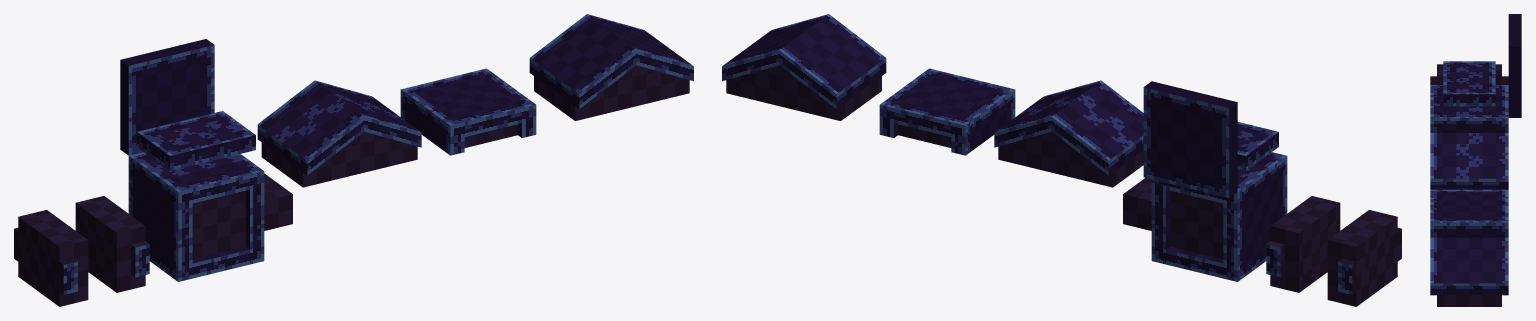
File: Gridmap_Dungeon.glb
3 views of the same model, side by side, from view 1: azimuth 30°, elevation 25°; view 2: azimuth 150°, elevation 25°; view 3: azimuth 270°, elevation 25° (orthographic). The views are drawn at different scales.
Parts seen in each view (by area): view 1: SD_slope_gentle_right-col, SD2_slope_gentle_right-col, SD_Platform-col, SD2_slope_gentle_left-col, SD_slope_gentle_left-col, SD2_top_left-col, SD_middle_bottom_left_corner-col, SD_middle_bottom_right_corner-col, SD_top_left-col, SD2_top_right-col, SD_middle_left-col, SD2_top_centre-col (+17 smaller); view 2: SD2_slope_gentle_right-col, SD_slope_gentle_right-col, SD2_slope_gentle_left-col, SD_slope_gentle_left-col, SD2_top_left-col, SD_middle_bottom_left_corner-col, SD_middle_bottom_right_corner-col, SD_top_left-col, SD2_top_right-col, SD_middle_left-col, SD2_top_centre-col, SD_middle_top_left_corner-col (+19 smaller); view 3: SD2_slope_gentle_left-col, SD_slope_gentle_left-col, SD_Platform-col, SD2_top_right-col, SD_top_right-col, SD2_top_centre-col, SD2_top_left-col, SD_wall_top_right-col, SD_middle_bottom_left_corner-col, SD_top_centre-col, SD_wall_middle_right-col, SD_wall_bottom_right-col (+3 smaller).
Boxes of the visible parts, x1,y1,x2,y2 form: SD_slope_gentle_right-col: [257, 80, 364, 187]; SD2_slope_gentle_right-col: [529, 14, 636, 120]; SD_Platform-col: [137, 111, 255, 170]; SD2_slope_gentle_left-col: [587, 14, 693, 106]; SD_slope_gentle_left-col: [315, 80, 421, 173]; SD2_top_left-col: [400, 82, 478, 155]; SD_middle_bottom_left_corner-col: [14, 210, 88, 279]; SD_middle_bottom_right_corner-col: [75, 196, 149, 262]; SD_top_left-col: [128, 152, 206, 221]; SD2_top_right-col: [458, 68, 536, 138]; SD_middle_left-col: [128, 186, 202, 251]; SD2_top_centre-col: [430, 75, 507, 145]; SD2_slope_gentle_right-col: [779, 14, 886, 120]; SD_slope_gentle_right-col: [1051, 80, 1143, 187]; SD2_slope_gentle_left-col: [722, 14, 828, 106]; SD_slope_gentle_left-col: [994, 80, 1100, 173]; SD2_top_left-col: [937, 82, 1015, 155]; SD_middle_bottom_left_corner-col: [1327, 210, 1401, 279]; SD_middle_bottom_right_corner-col: [1266, 196, 1340, 262]; SD_top_left-col: [1209, 152, 1287, 221]; SD2_top_right-col: [879, 68, 957, 138]; SD_middle_left-col: [1213, 186, 1287, 251]; SD2_top_centre-col: [908, 75, 985, 145]; SD_middle_top_left_corner-col: [1327, 244, 1401, 306]; SD2_slope_gentle_left-col: [1430, 237, 1508, 306]; SD_slope_gentle_left-col: [1430, 133, 1508, 189]; SD_Platform-col: [1443, 61, 1495, 106]; SD2_top_right-col: [1430, 211, 1508, 237]; SD_top_right-col: [1430, 107, 1508, 132]; SD2_top_centre-col: [1430, 200, 1508, 211]; SD2_top_left-col: [1430, 189, 1508, 200]; SD_wall_top_right-col: [1508, 36, 1521, 70]; SD_middle_bottom_left_corner-col: [1430, 64, 1508, 84]; SD_top_centre-col: [1430, 96, 1508, 106]; SD_wall_middle_right-col: [1508, 70, 1521, 94]; SD_wall_bottom_right-col: [1508, 94, 1521, 117].
Bounding box in the file's own units: 44 × 12 × 7.
Materials: 1 (1 with a texture image).
